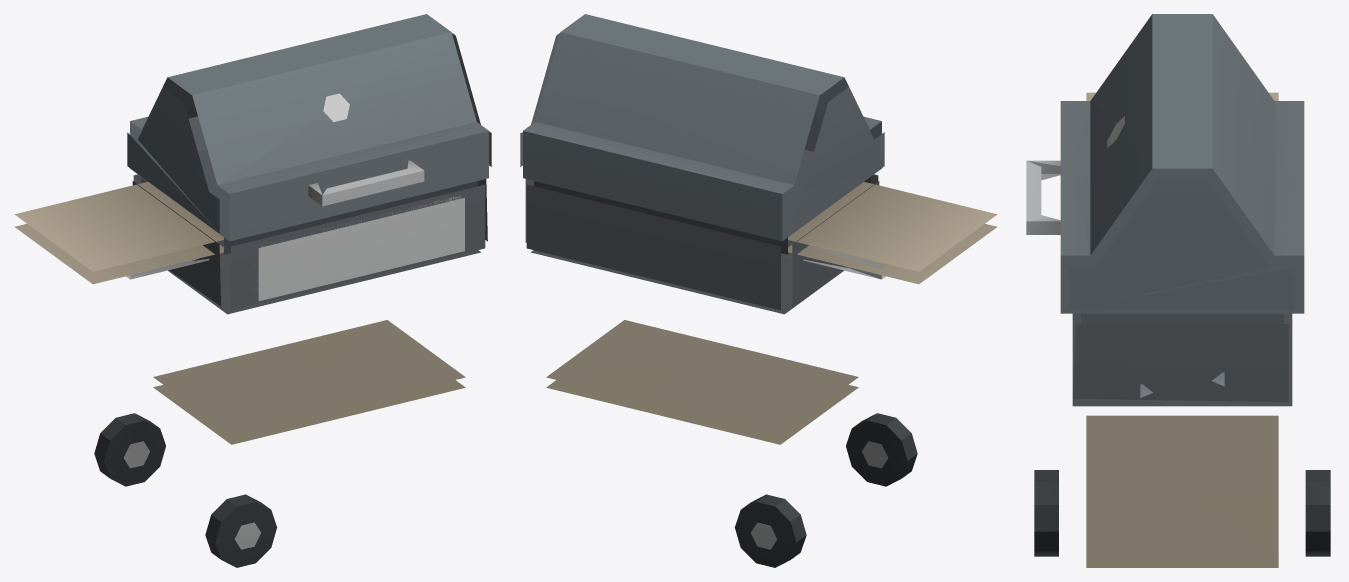
The model's file is grill.lod.glb.
3 renders of one model, left to right at view 1: azimuth 30°, elevation 25°; view 2: azimuth 150°, elevation 25°; view 3: azimuth 270°, elevation 25°, orthographic. The views are drawn at different scales.
Visible parts, largest first — view 1: grill; view 2: grill; view 3: grill.
Part boxes in pixels (left/top/right/bottom): grill: left=14, top=14, right=491, bottom=567; grill: left=520, top=14, right=997, bottom=567; grill: left=1026, top=14, right=1330, bottom=567.
Size of the model in its own units: 1.18 by 1.19 by 0.622.
